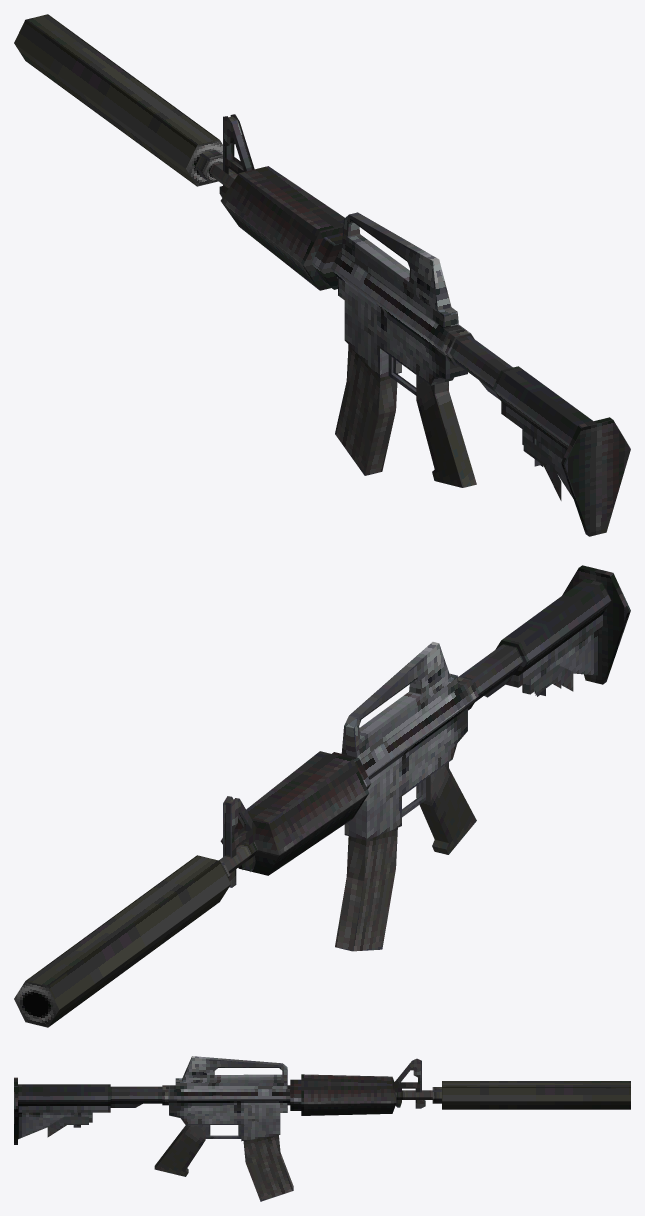
Rendered from recovered_gun_m4acarbine_sd.glb.
3 views of the same model, one above another, from view 1: azimuth 30°, elevation 25°; view 2: azimuth 150°, elevation 25°; view 3: azimuth 270°, elevation 25° (orthographic). The views are drawn at different scales.
Visible parts, largest first — view 1: Gun_9a4a08e6b9bf, Gun_379f7b5fa02f; view 2: Gun_9a4a08e6b9bf, Gun_379f7b5fa02f; view 3: Gun_9a4a08e6b9bf.
Part boxes in pixels (x1=…): Gun_9a4a08e6b9bf: x1=14, y1=14, x2=630, y2=536; Gun_379f7b5fa02f: x1=186, y1=140, x2=222, y2=186; Gun_9a4a08e6b9bf: x1=26, y1=565, x2=630, y2=1027; Gun_379f7b5fa02f: x1=14, y1=981, x2=59, y2=1027; Gun_9a4a08e6b9bf: x1=14, y1=1056, x2=630, y2=1201.
Size of the model in its own units: 0.0751 by 0.2813 by 1.1.
2 materials, 2 textured.
